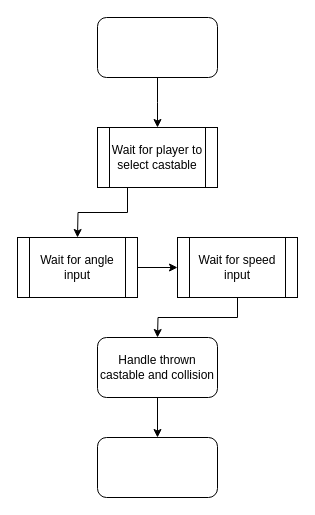
The diagram is 315 pixels wide and 515 high, and some of its shapes have lost their labels. The centre of each missing label's shape, as x and y in pixels:
"Enter player turn" belongs at pixel 157 47.
"Exit player turn" belongs at pixel 157 467.
